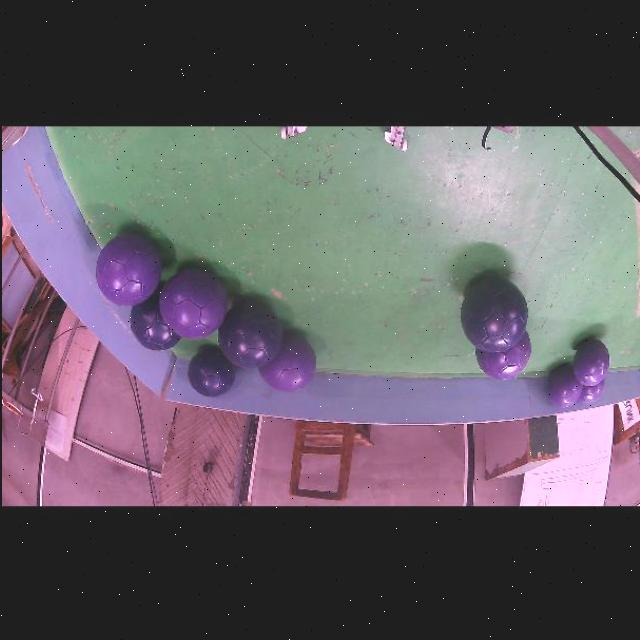B: (459, 276, 527, 353), (217, 302, 281, 368), (128, 286, 180, 350), (186, 348, 234, 397)
P: (157, 269, 226, 338), (94, 233, 160, 305), (257, 335, 314, 393), (474, 332, 531, 379), (572, 338, 609, 386), (547, 364, 582, 407), (577, 378, 603, 403)
